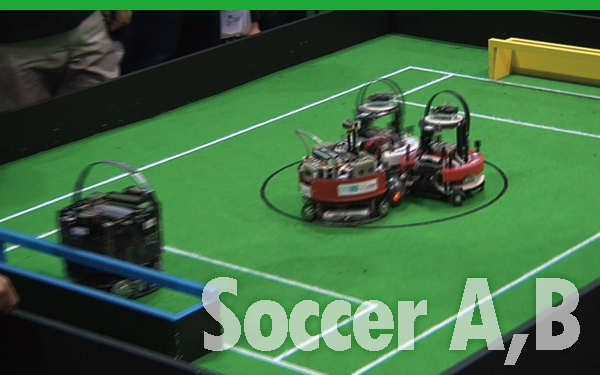Goal: (484, 34, 600, 95)
Robot: (47, 158, 170, 296), (288, 110, 394, 221), (409, 88, 490, 207), (349, 76, 414, 194)
